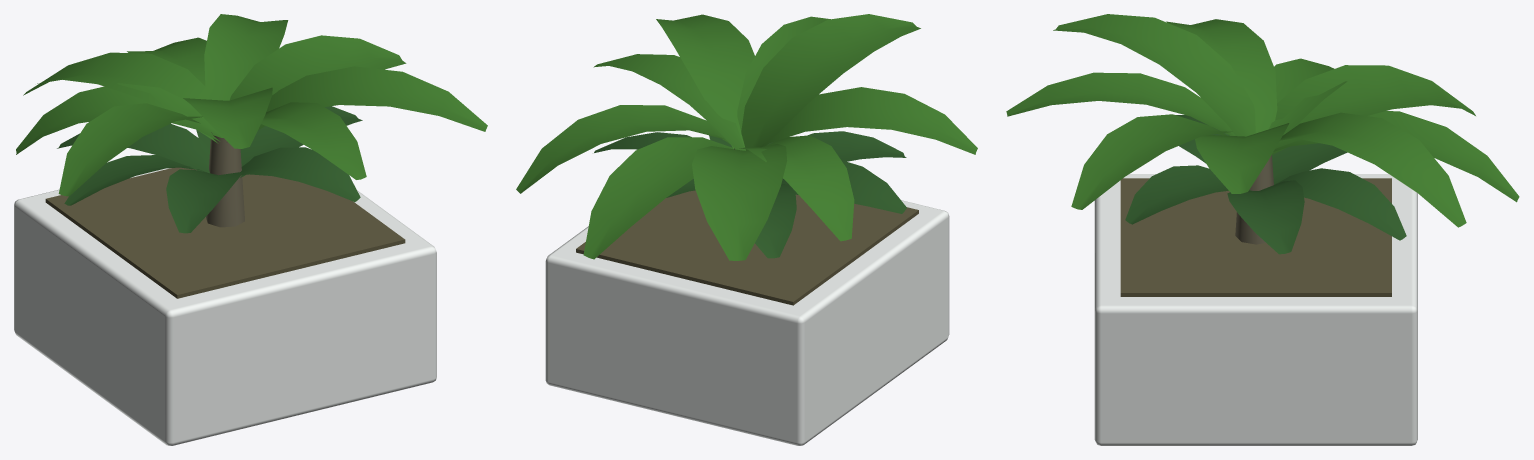
The model's file is planter.glb.
3 views of the same model, side by side, from view 1: azimuth 30°, elevation 25°; view 2: azimuth 150°, elevation 25°; view 3: azimuth 270°, elevation 25° (orthographic). The views are drawn at different scales.
Parts seen in each view (by area): view 1: pool-tile, leaf, ground, leaf-dark, jungle-bark; view 2: pool-tile, leaf, ground, leaf-dark; view 3: pool-tile, leaf, ground, leaf-dark, jungle-bark.
Part boxes in pixels (bbox=[...]): pool-tile: bbox=[14, 168, 436, 445]; leaf: bbox=[16, 14, 487, 196]; ground: bbox=[45, 167, 405, 298]; leaf-dark: bbox=[57, 106, 362, 233]; jungle-bark: bbox=[206, 132, 244, 227]; pool-tile: bbox=[545, 200, 949, 445]; leaf: bbox=[516, 14, 977, 260]; ground: bbox=[576, 190, 918, 305]; leaf-dark: bbox=[594, 131, 906, 258]; pool-tile: bbox=[1094, 174, 1417, 445]; leaf: bbox=[1006, 14, 1519, 227]; ground: bbox=[1120, 178, 1391, 296]; leaf-dark: bbox=[1125, 115, 1406, 254]; jungle-bark: bbox=[1235, 155, 1273, 244].
Bounding box in the file's own units: 2.11 × 1.67 × 2.38.
